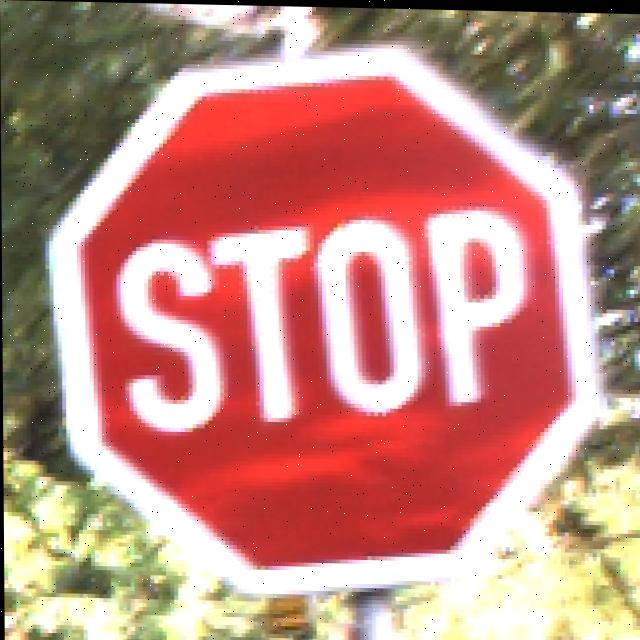stop: (78, 75, 596, 556)
